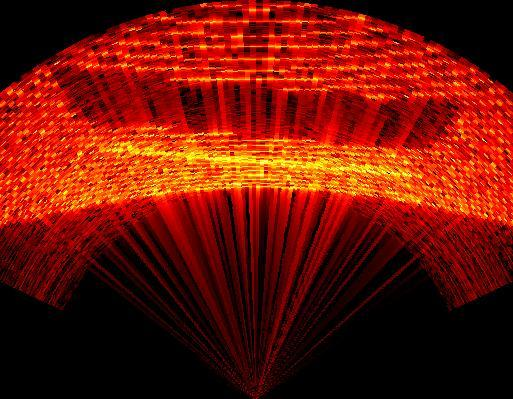pipe: (51, 68, 482, 174)
